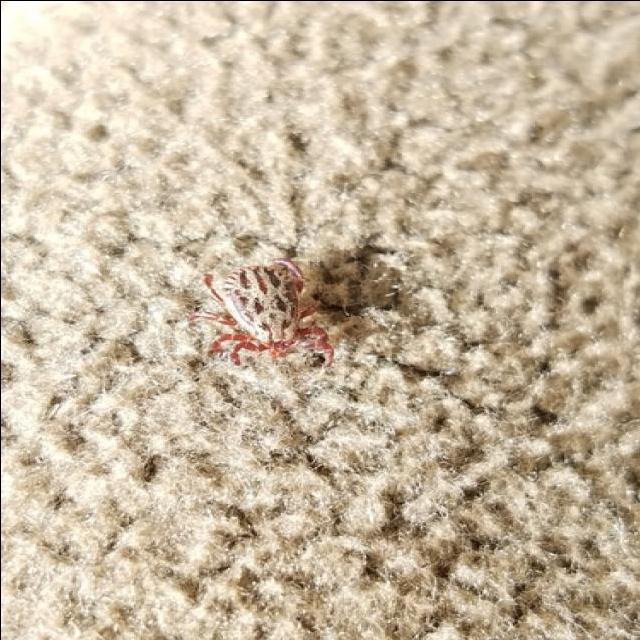Dermacentor Reticulatus-M: (193, 259, 333, 367)
